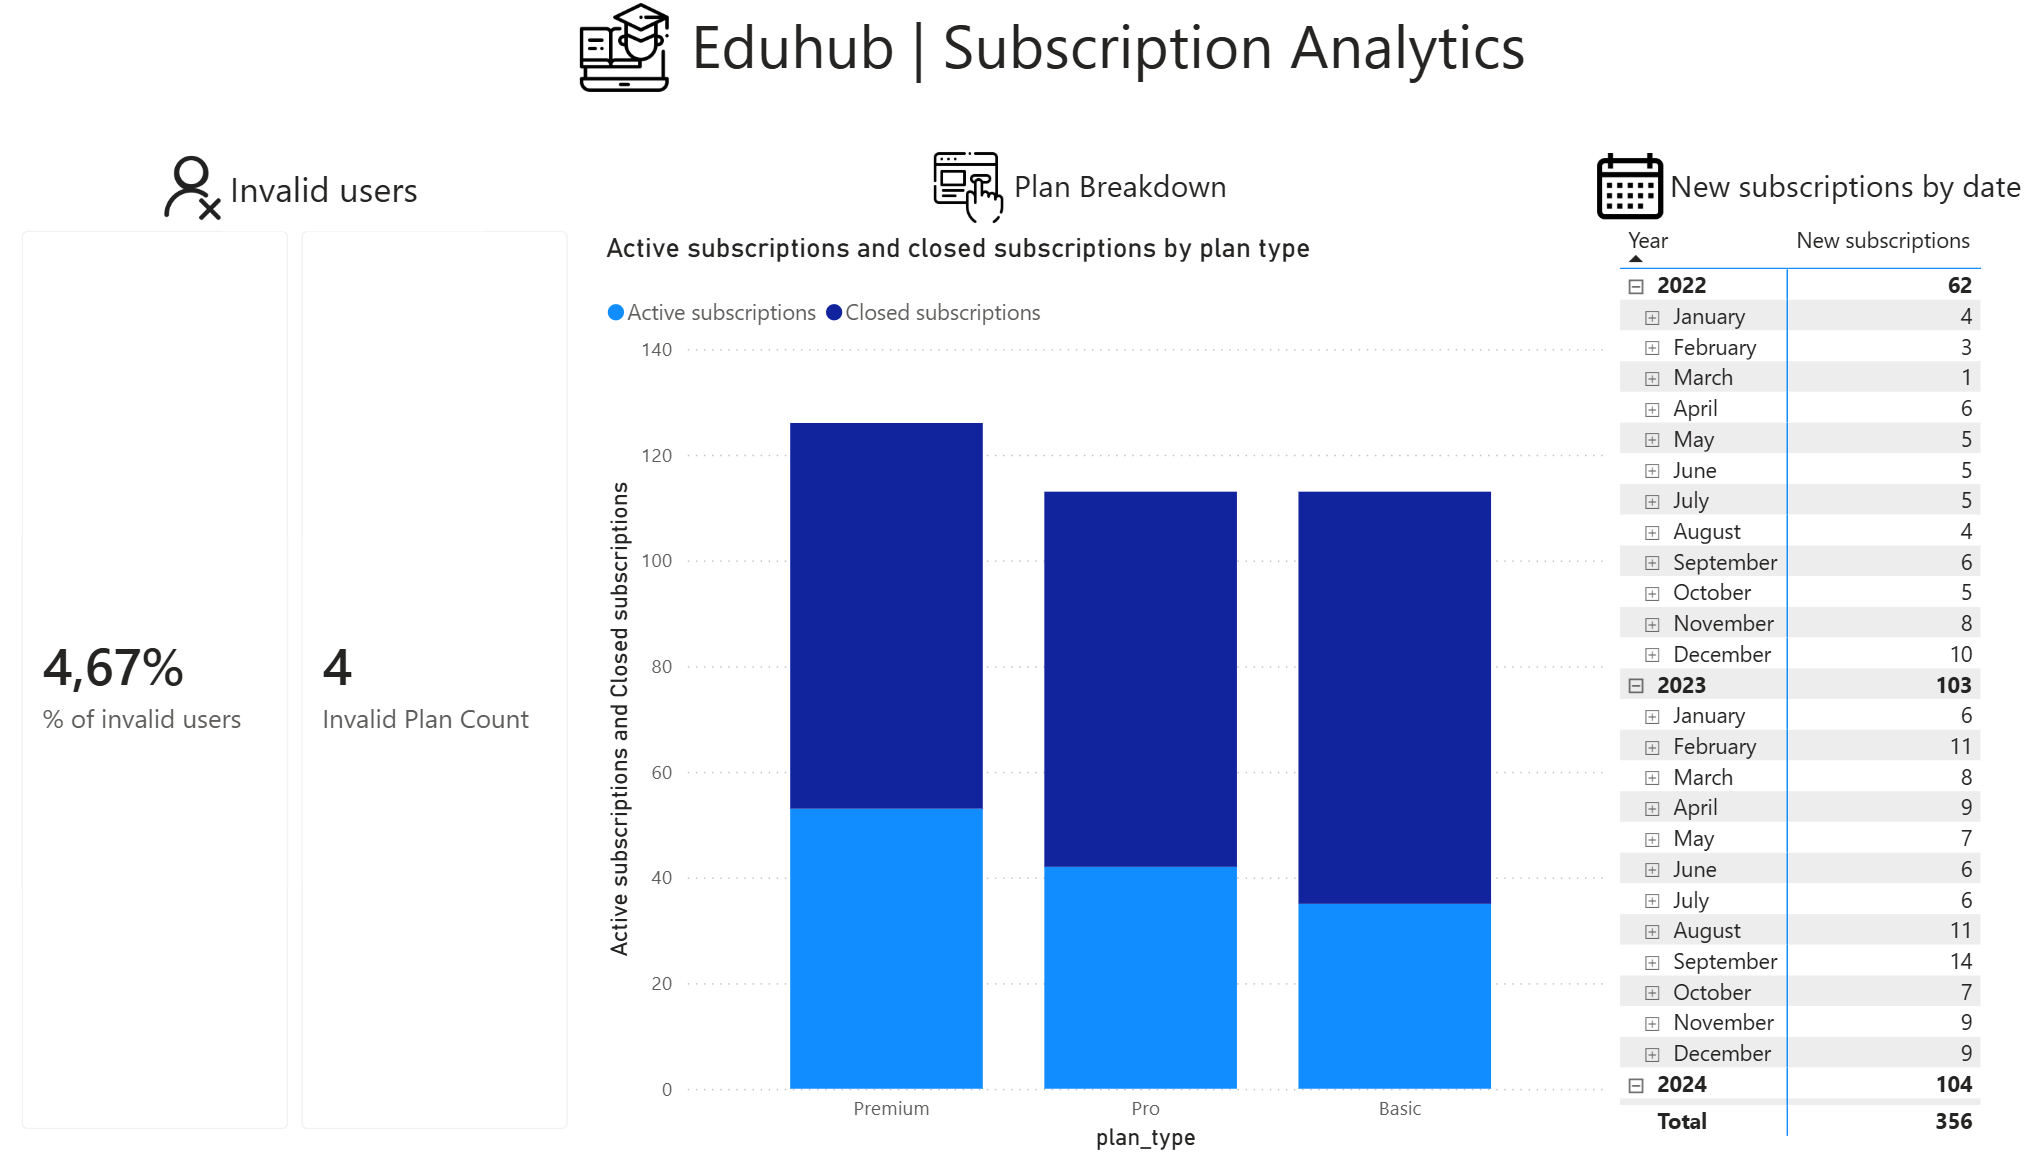

What the dashboard file says about the page in this screenshot:
{"tool":"powerbi","page":{"name":"Dashboard","canvas":[1280,720],"ordinal":0},"visuals":[{"type":"cardVisual","fields":{"Data":["public customers_clear.%invalid_users","public subscriptions_clean.Invalid Plan Count"]},"box":[0,128.9,373.7,590.9],"z":0},{"type":"columnChart","title":"Active subscriptions and closed subscriptions by plan type","fields":{"Category":["public subscriptions_clear.plan_type"],"Y":["public subscriptions_clear.Активные подписки","public subscriptions_clear.Закрытые подписки"]},"box":[373.7,145.9,626.9,573.9],"z":1000},{"type":"pivotTable","fields":{"Values":["public subscriptions_clean.Новые подписки"],"Rows":["Календарь.Year","Календарь.Month","Календарь.Day"]},"box":[1000.6,136.8,280.1,573.9],"z":2000},{"type":"textbox","box":[426.2,0,611.1,74.8],"z":3000},{"type":"textbox","box":[141,100.2,163.3,45.8],"z":4000},{"type":"textbox","box":[626,100.2,240.6,41.4],"z":5000},{"type":"textbox","box":[1031.8,100.2,248,45.8],"z":6000},{"type":"image","box":[86.6,90.3,77.9,55.7],"z":7000},{"type":"image","box":[557.3,92.2,90.9,53.8],"z":8000},{"type":"image","box":[986.6,97.7,50.7,40.8],"z":9000},{"type":"image","box":[346.4,4.9,87.2,55.1],"z":10000}]}

Visuals, with their boxes in screenshot pixels (x1, y1, x2, y2), scaled from the page's 1280x720 canvas onto the 2036x1156 screenshot:
cardVisual - public customers_clear.%invalid_users x public subscriptions_clean.Invalid Plan Count: detection(0, 207, 594, 1155)
"Active subscriptions and closed subscriptions by plan type" columnChart: detection(594, 234, 1592, 1155)
pivotTable - public subscriptions_clean.Новые подписки x Календарь.Year: detection(1592, 220, 2035, 1141)
textbox: detection(678, 0, 1650, 120)
textbox: detection(224, 161, 484, 234)
textbox: detection(996, 161, 1378, 227)
textbox: detection(1641, 161, 2035, 234)
image: detection(138, 145, 262, 234)
image: detection(886, 148, 1031, 234)
image: detection(1569, 157, 1650, 222)
image: detection(551, 8, 690, 96)
